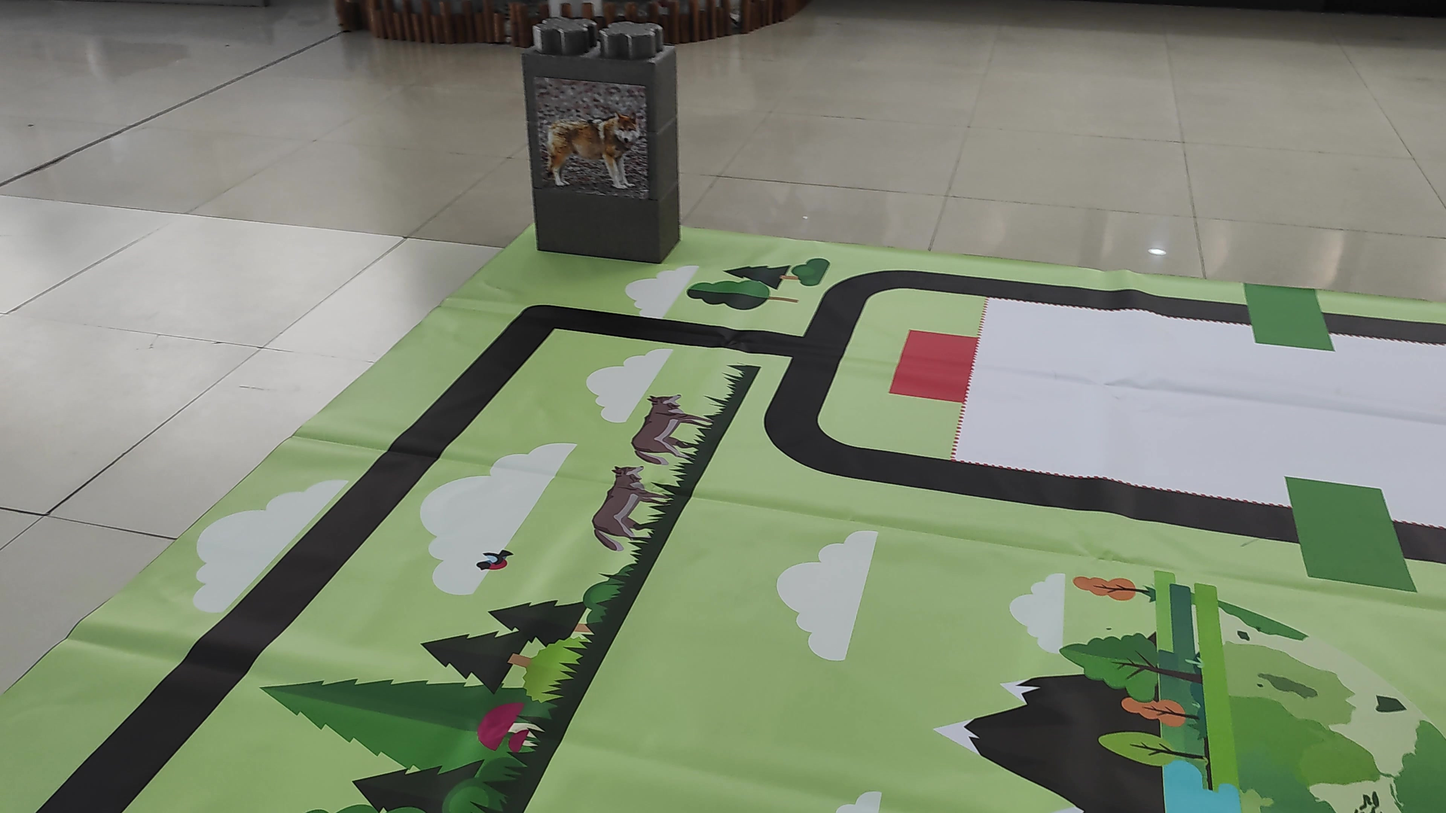wolf: (534, 91, 658, 206)
